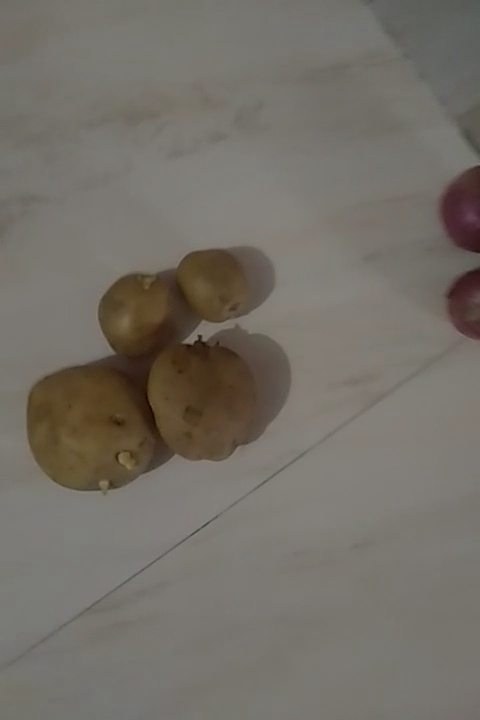onion: (425, 170, 480, 244), (451, 268, 480, 337)
potato: (31, 365, 152, 498), (145, 348, 266, 461), (95, 269, 179, 349), (177, 239, 247, 315)
